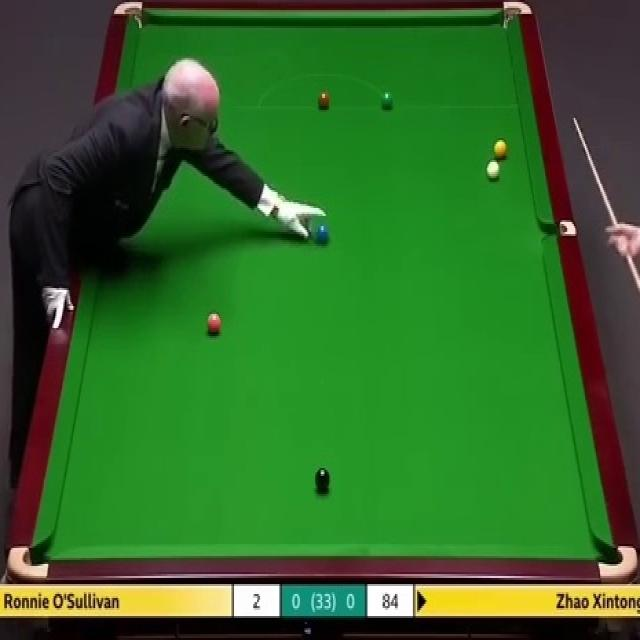pocket: (598, 544, 638, 583), (6, 544, 49, 579), (502, 2, 533, 32), (112, 1, 144, 30), (542, 222, 576, 240)
